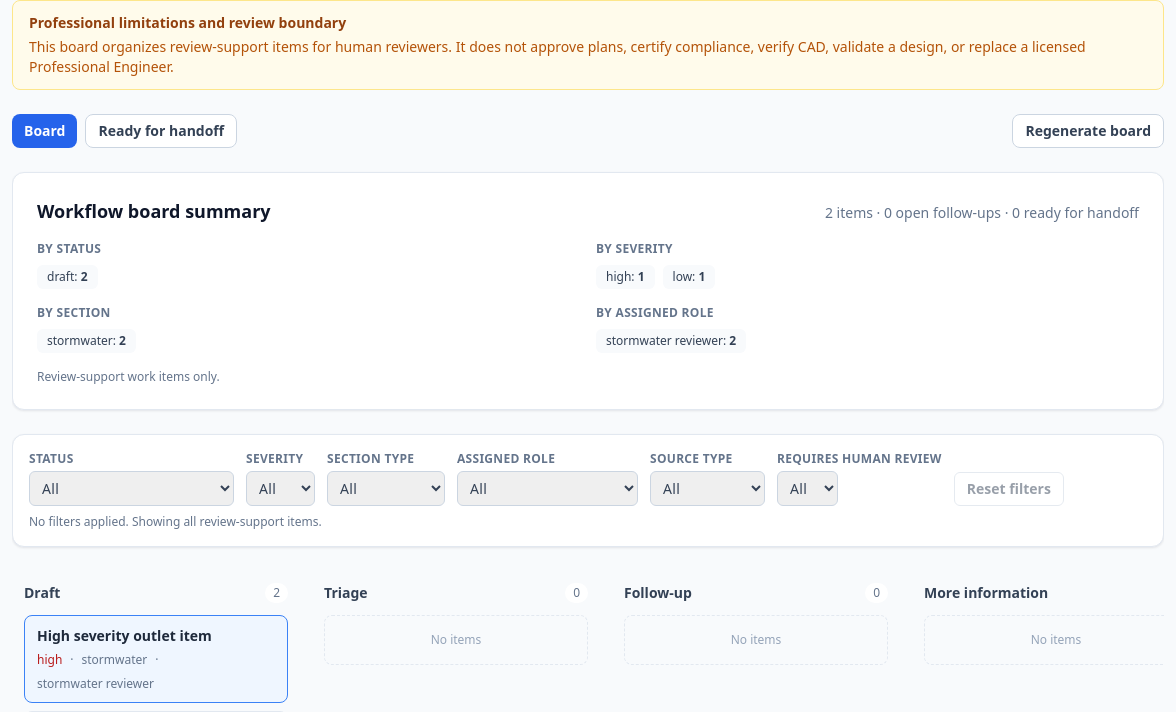
Scenario: Workflow board filters › shows an honest no-match message that does not imply completeness
This screenshot has width=1176, height=712.
Expected: the text "High severity outlet item" is shown, x1=37 y1=626 x2=212 y2=645
Select "stormwater" in the dropdown labelled "Section type" at (386, 488), box x1=327 y1=471 x2=445 y2=506
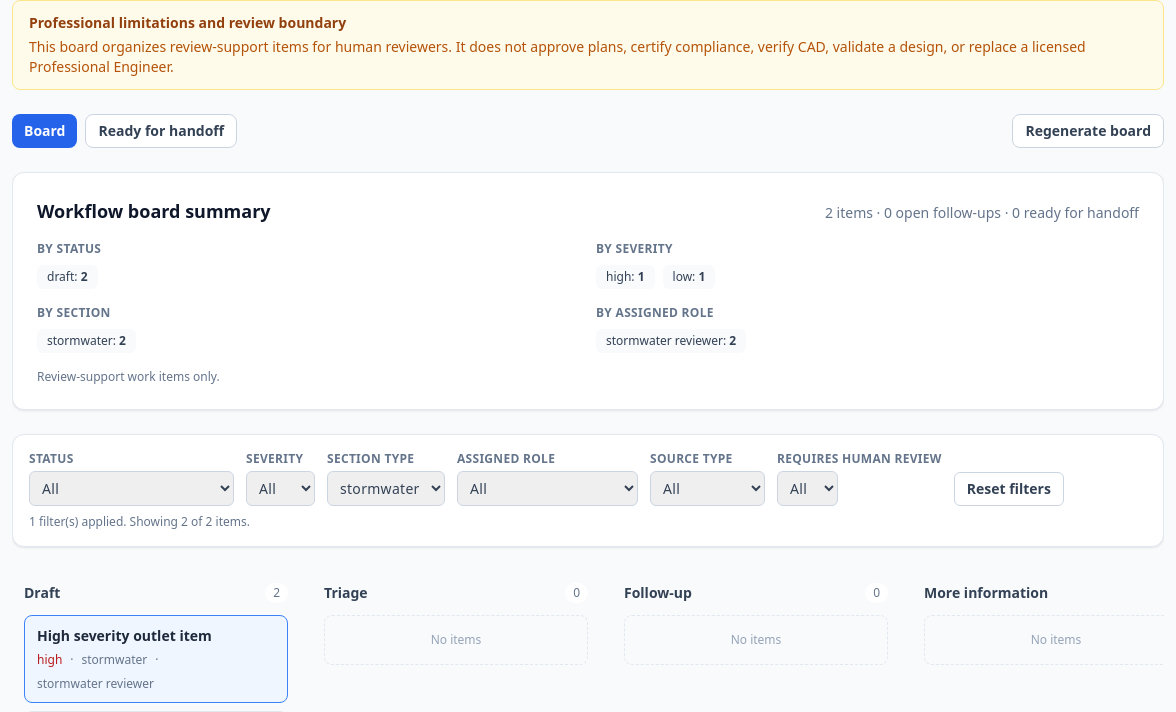
Select "high" in the dropdown labelled "Severity" at (280, 488), box x1=246 y1=471 x2=315 y2=506
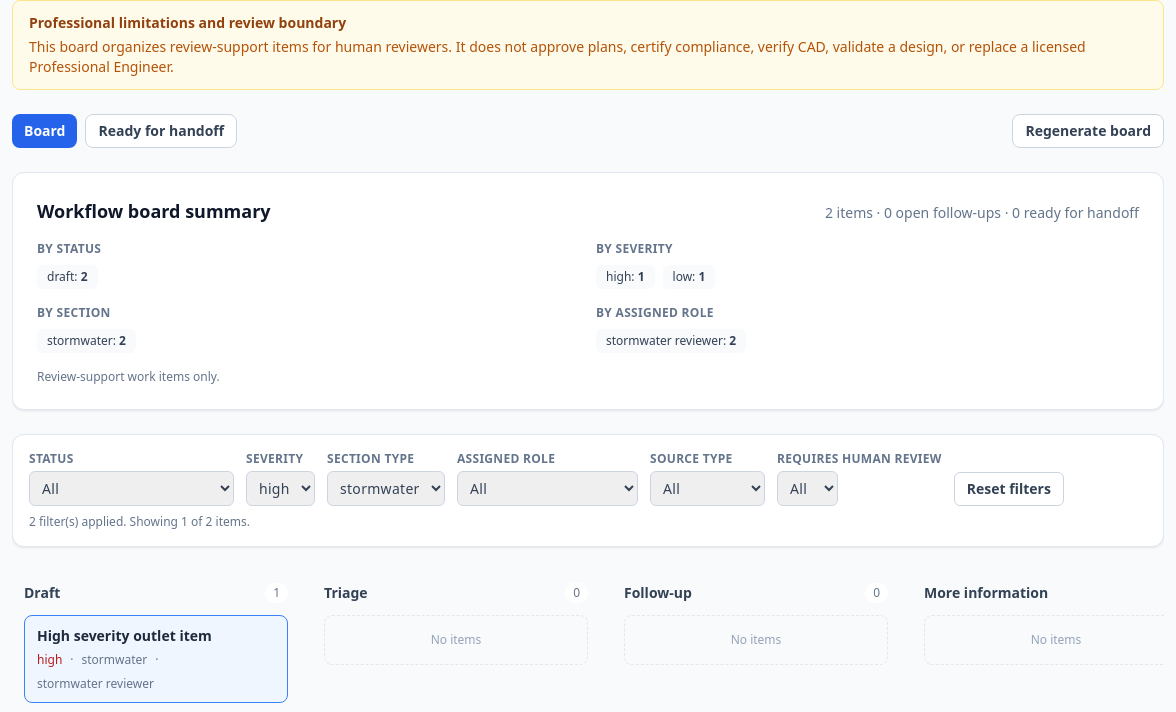
Select "no" in the dropdown labelled "Requires human review" at (808, 488), box x1=777 y1=471 x2=838 y2=506
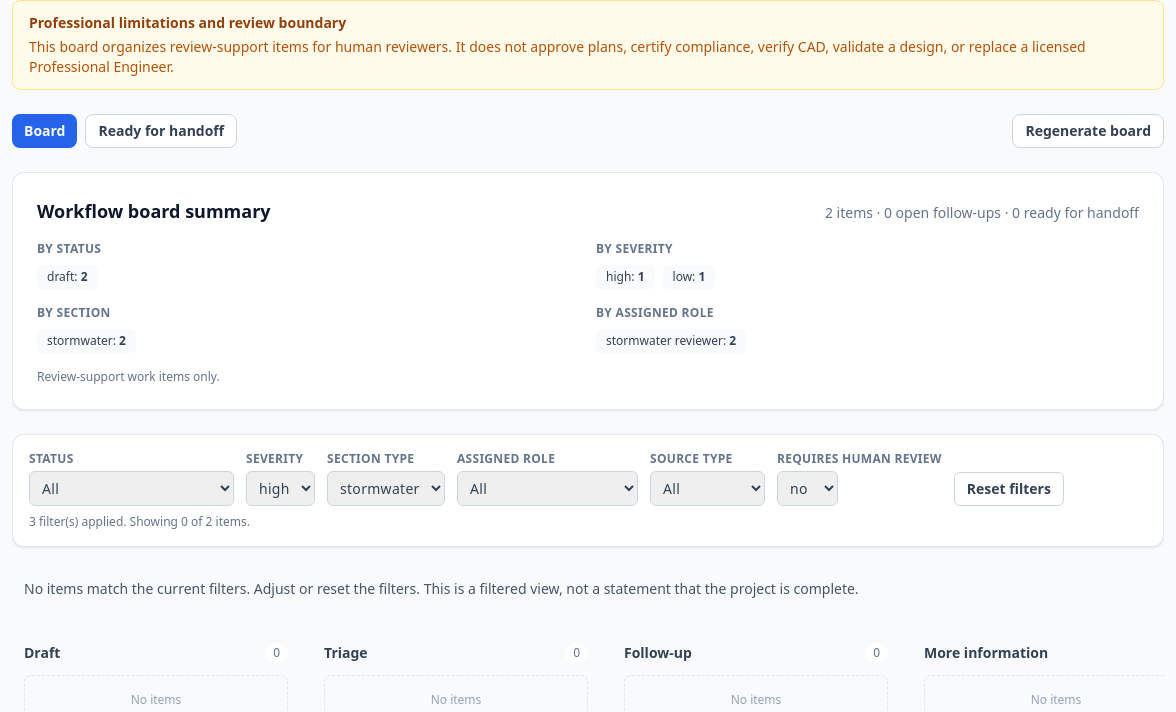
Expected: the text "No items match the current filters" is shown, x1=24 y1=579 x2=859 y2=598
